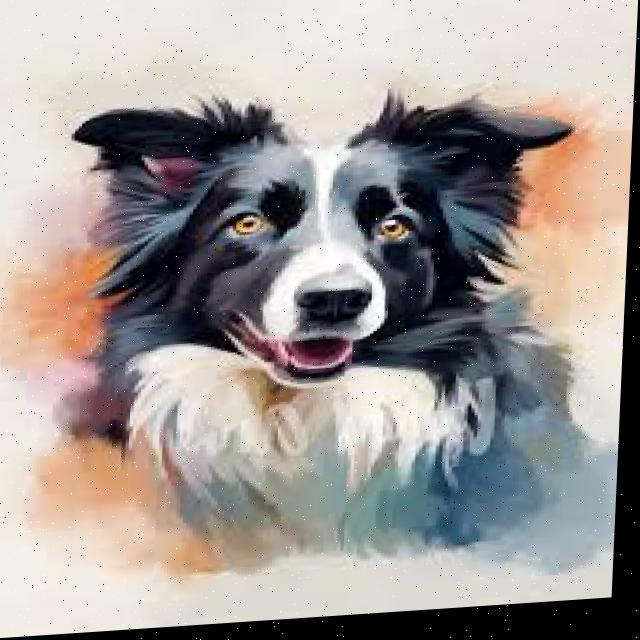ALASKAN_MALAMUTE: (35, 54, 637, 601)
